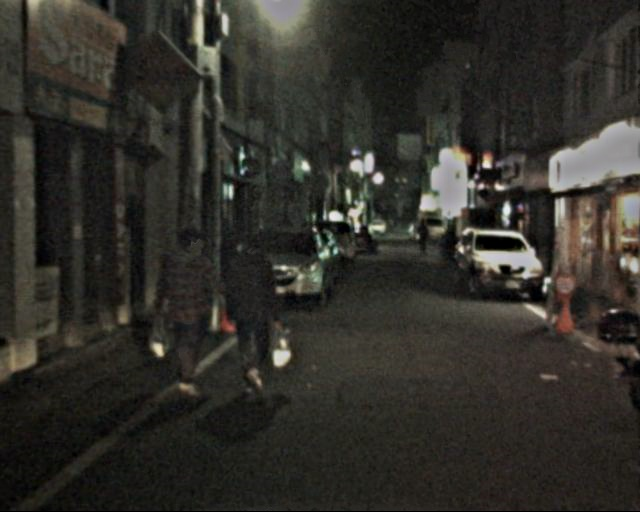person: (154, 225, 222, 396), (221, 229, 288, 399), (414, 220, 429, 257)
